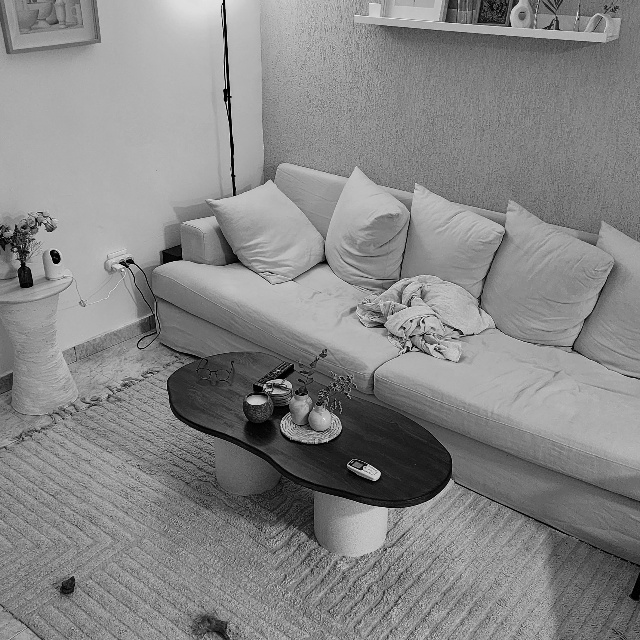glasses: (195, 356, 237, 384)
